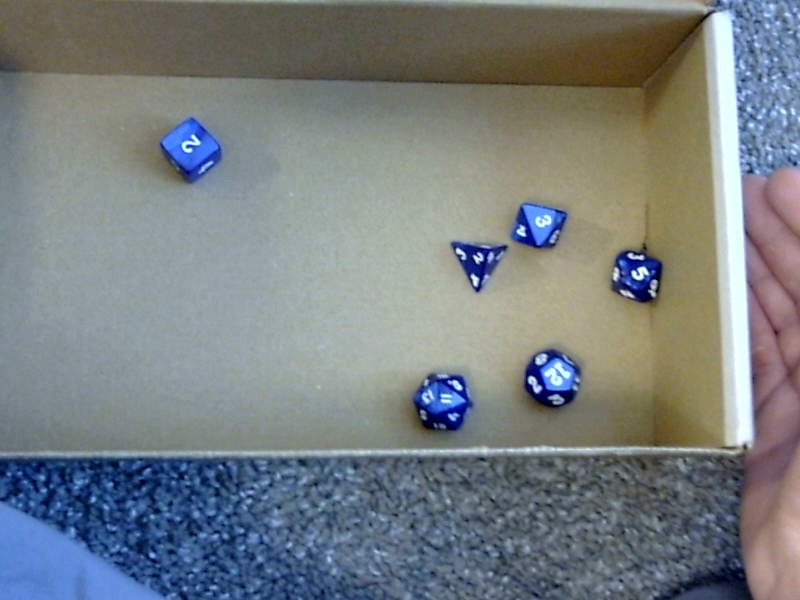d10 5: (611, 247, 662, 302)
d12 12: (520, 348, 584, 410)
d20 11: (411, 366, 475, 435)
d4 2: (443, 238, 508, 296)
d6 2: (154, 111, 222, 186)
d8 3: (505, 195, 567, 248)
